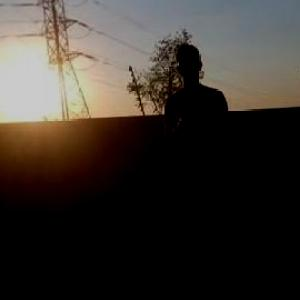follow: (158, 34, 254, 286)
